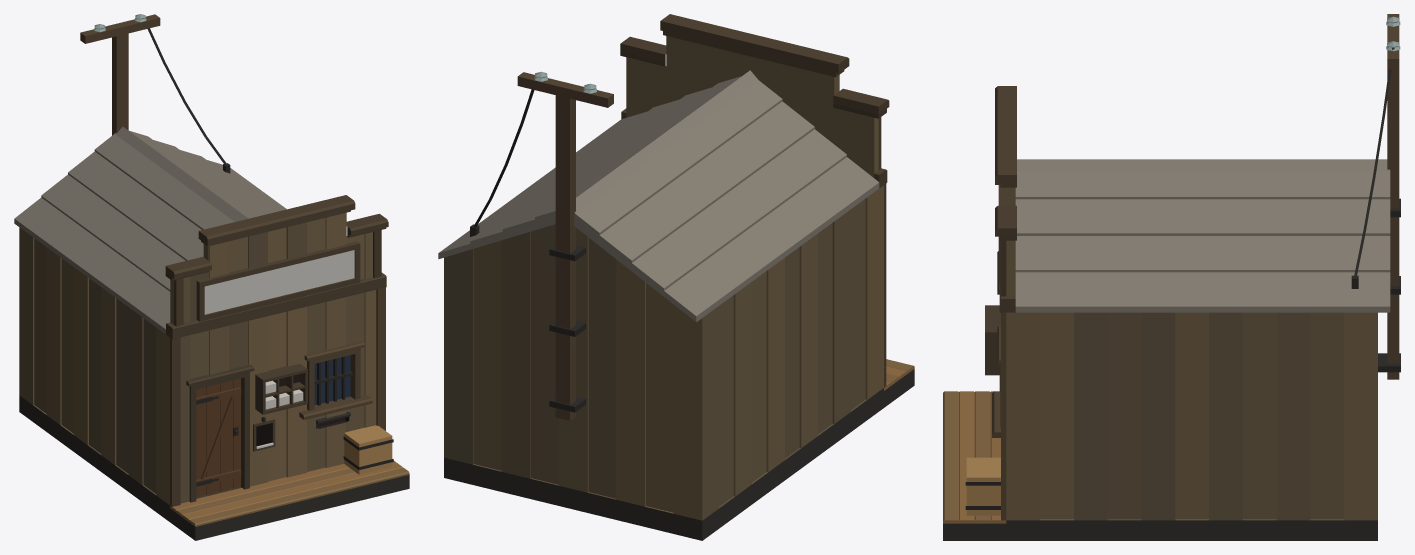
The model's file is telegraph-and-post-office-71d3ff.glb.
3 views of the same model, side by side, from view 1: azimuth 30°, elevation 25°; view 2: azimuth 150°, elevation 25°; view 3: azimuth 270°, elevation 25° (orthographic). The views are drawn at different scales.
Parts seen in each view (by area): view 1: office-mesh, door-mesh, mail-rack-mesh, crate-mesh, slate-mesh; view 2: office-mesh; view 3: office-mesh, crate-mesh, mail-rack-mesh.
Boxes of the visible parts, x1,y1,x2,y2 form: office-mesh: (14,14,409,540); door-mesh: (196,378,241,497); mail-rack-mesh: (255,363,307,414); crate-mesh: (343,425,393,474); slate-mesh: (253,419,275,451); office-mesh: (438,14,914,540); office-mesh: (943,14,1400,540); crate-mesh: (965,457,1000,515); mail-rack-mesh: (985,305,1000,375).
Bounding box in the file's own units: 4 × 6.47 × 6.
